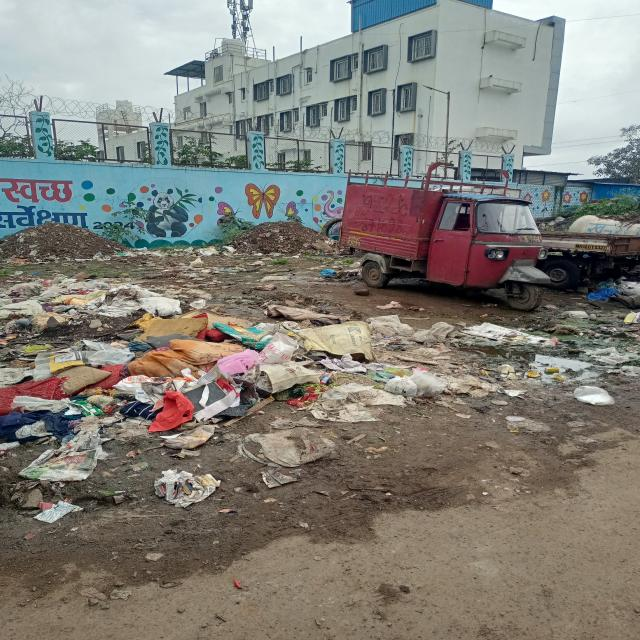garbage: (241, 303, 640, 425), (0, 278, 241, 472), (3, 223, 130, 260), (217, 221, 338, 255), (136, 244, 226, 266)
